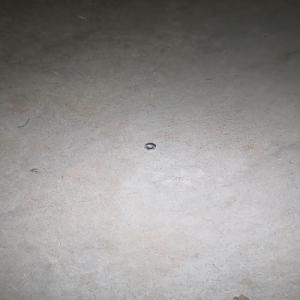Nut: (144, 143, 156, 150)
